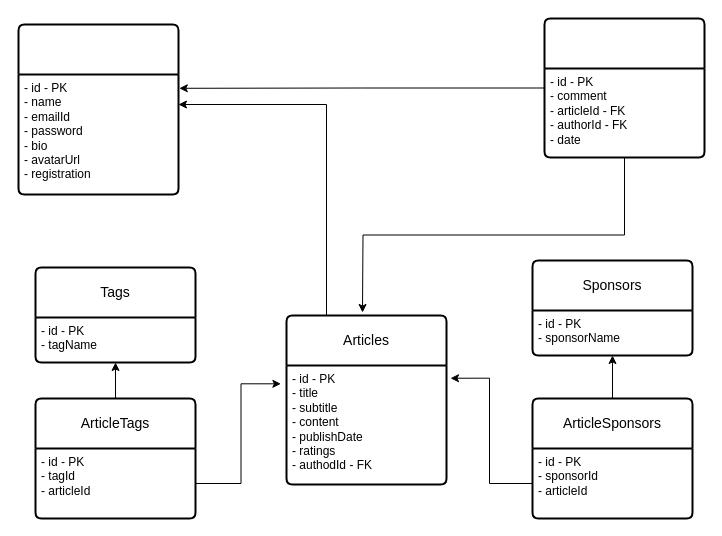
Image size: 722x536. Some labels were removed from this diagram. Each missing label, with the box of its shape:
Authors: (17, 23, 179, 195)
Comments: (543, 17, 705, 158)
